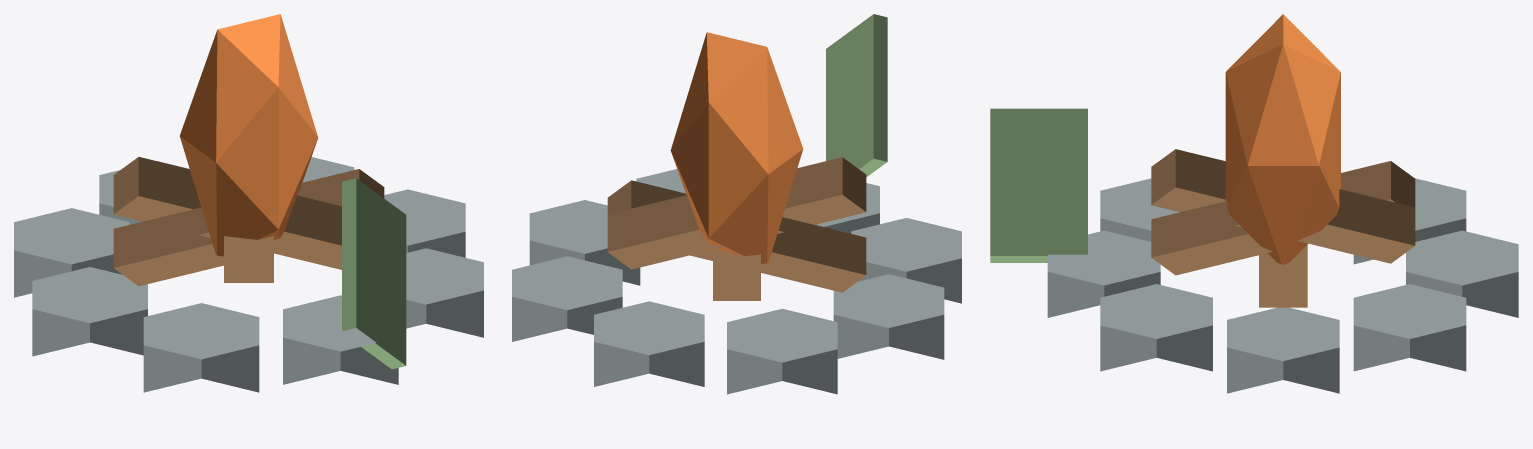
The model's file is building_campfire.glb.
3 renders of one model, left to right at view 1: azimuth 30°, elevation 25°; view 2: azimuth 150°, elevation 25°; view 3: azimuth 270°, elevation 25°, orthographic. The views are drawn at different scales.
Parts seen in each view (by area): view 1: flame, pennant, stone_3, stone_4, log_1, log_0, stone_5, stone_2, stone_1, stone_0, log_2, stone_6 (+1 smaller); view 2: flame, log_2, pennant, stone_5, stone_6, stone_4, stone_7, log_0, stone_3, stone_0, log_1, stone_2 (+1 smaller); view 3: flame, pennant, log_2, stone_7, stone_1, stone_0, log_1, stone_6, stone_2, stone_3, stone_5, log_0.
Boxes of the visible parts, bbox=[...] form: flame: bbox=[179, 14, 318, 256]; pennant: bbox=[342, 178, 406, 369]; stone_3: bbox=[143, 303, 259, 392]; stone_4: bbox=[32, 267, 147, 356]; log_1: bbox=[113, 157, 341, 269]; log_0: bbox=[113, 169, 384, 286]; stone_5: bbox=[14, 208, 129, 297]; stone_2: bbox=[283, 295, 398, 384]; stone_1: bbox=[406, 248, 483, 337]; stone_0: bbox=[384, 189, 465, 257]; log_2: bbox=[224, 236, 273, 282]; stone_6: bbox=[99, 161, 188, 224]; flame: bbox=[670, 32, 803, 263]; log_2: bbox=[607, 157, 866, 269]; pennant: bbox=[826, 14, 887, 177]; stone_5: bbox=[727, 308, 837, 394]; stone_6: bbox=[594, 301, 704, 386]; stone_4: bbox=[833, 274, 944, 359]; stone_7: bbox=[512, 256, 622, 341]; log_0: bbox=[607, 180, 866, 292]; stone_3: bbox=[851, 218, 961, 303]; stone_0: bbox=[529, 200, 640, 285]; log_1: bbox=[713, 249, 760, 300]; stone_2: bbox=[815, 183, 879, 233]; flame: bbox=[1225, 14, 1340, 264]; pennant: bbox=[990, 108, 1087, 262]; log_2: bbox=[1151, 149, 1415, 263]; stone_7: bbox=[1353, 284, 1466, 371]; stone_1: bbox=[1100, 284, 1212, 371]; stone_0: bbox=[1227, 307, 1339, 393]; log_1: bbox=[1151, 161, 1415, 275]; stone_6: bbox=[1406, 230, 1518, 317]; stone_2: bbox=[1047, 230, 1160, 317]; stone_3: bbox=[1100, 178, 1179, 241]; stone_5: bbox=[1353, 178, 1466, 264]; log_0: bbox=[1259, 245, 1307, 307].
Size of the model in its own units: 1.5 by 1.03 by 1.62.
